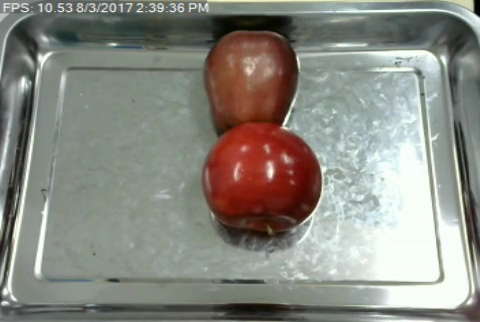Apple: (198, 121, 324, 238), (200, 25, 302, 137)
